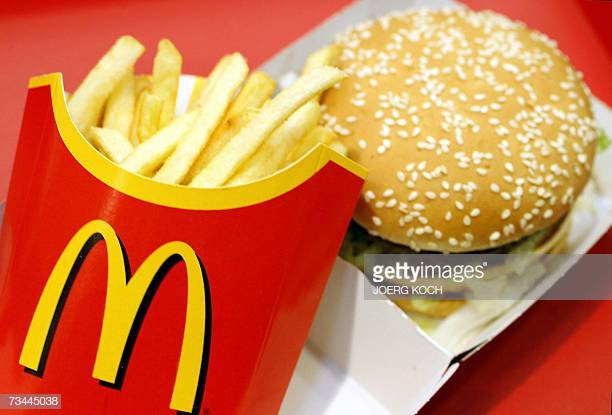mcdonalds: (14, 210, 226, 415)
